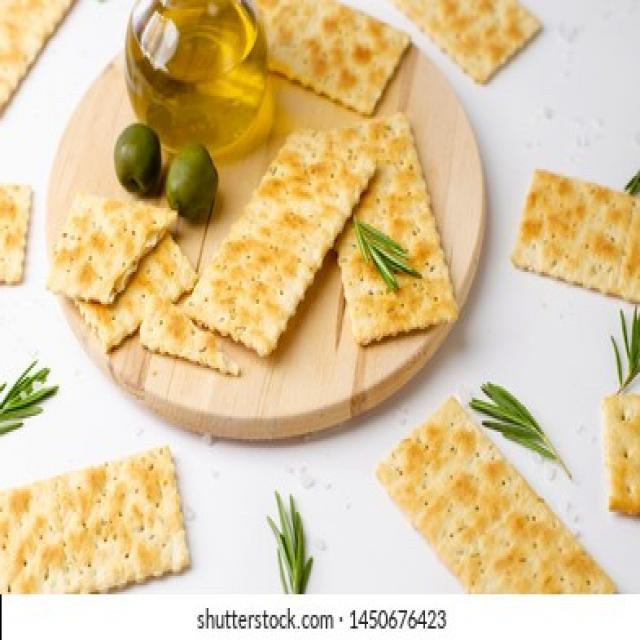Cracker: (374, 393, 618, 597), (188, 126, 380, 350), (321, 110, 458, 336), (2, 443, 202, 589), (52, 192, 176, 311)
